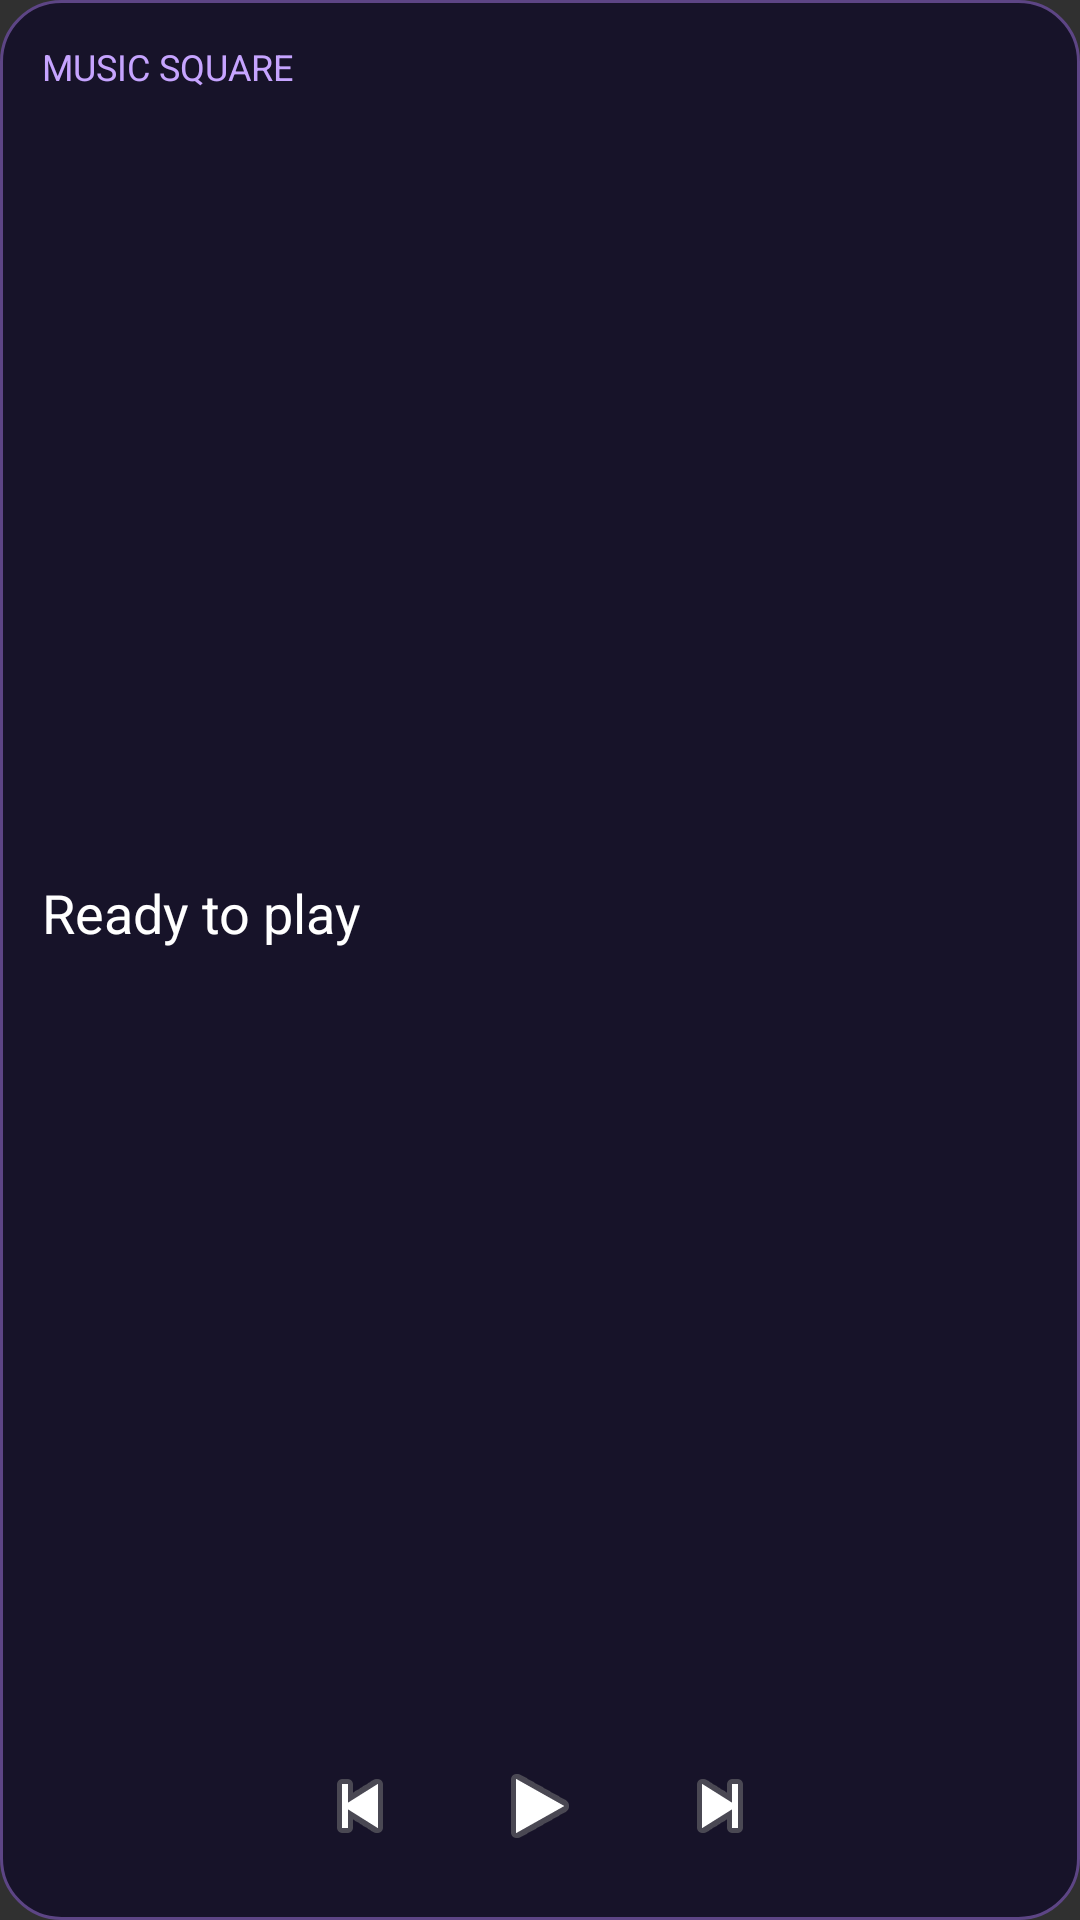

Icon bounding boxes for this 1080×1920 phone screenshot, format (x1, y1, x2, y2):
Next: (697, 1779, 743, 1833)
Play or pause: (511, 1774, 569, 1838)
Previous: (337, 1779, 383, 1833)
